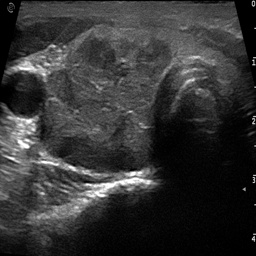mass: (41, 27, 163, 171)
